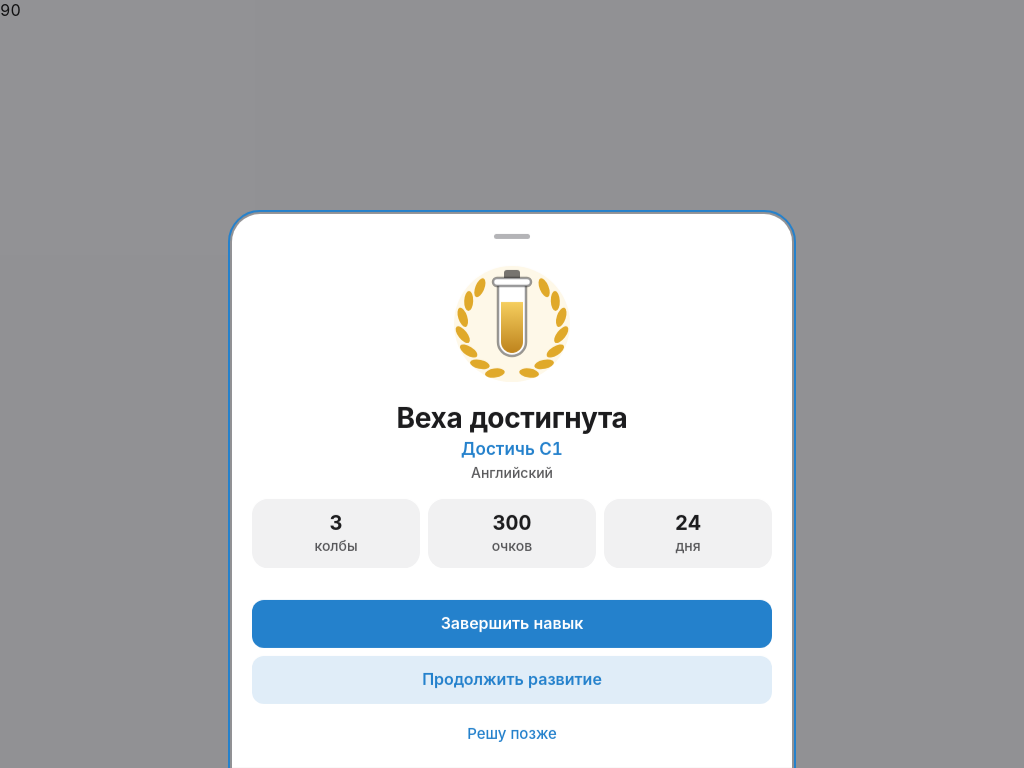
Test: CelebrationProvider › waits for the milestone sheet to close before a card
Expected: the dialog named "Веха достигнута: Достичь C1" is shown, 232,214 -> 792,767
Expected: the text "Новая ачивка" is not shown
Click the button "Решу позже".
click(512, 734)  # box 459,712 -> 565,756
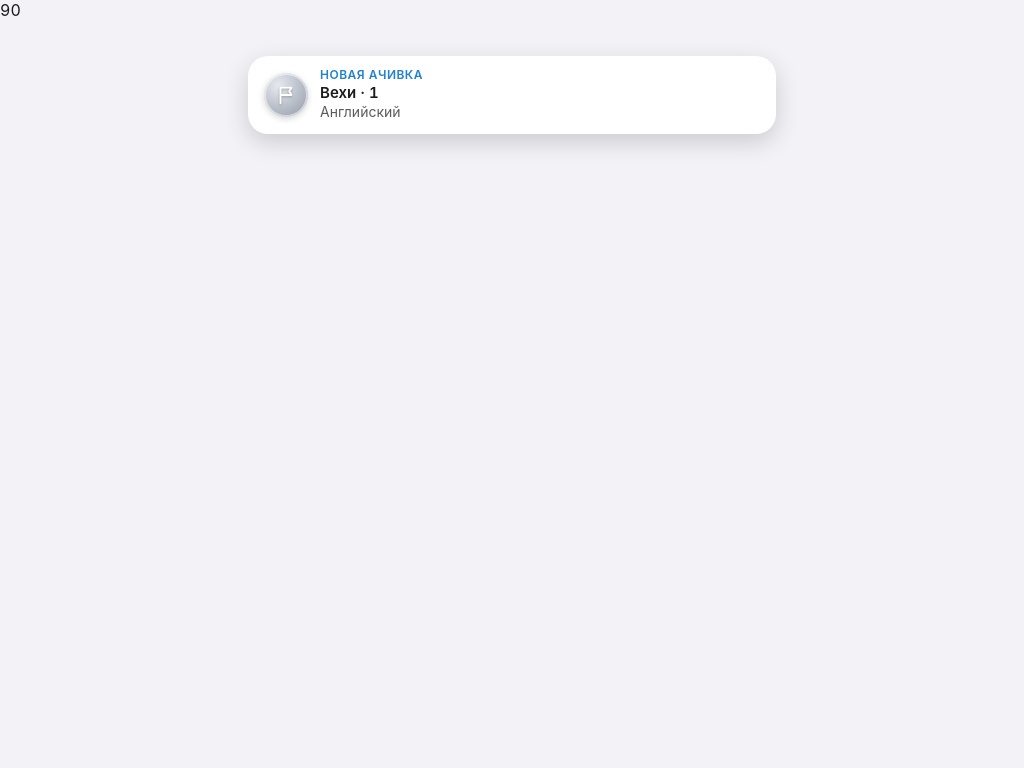
Now the text "Вехи · 1" is shown, box 320,83 -> 379,102
